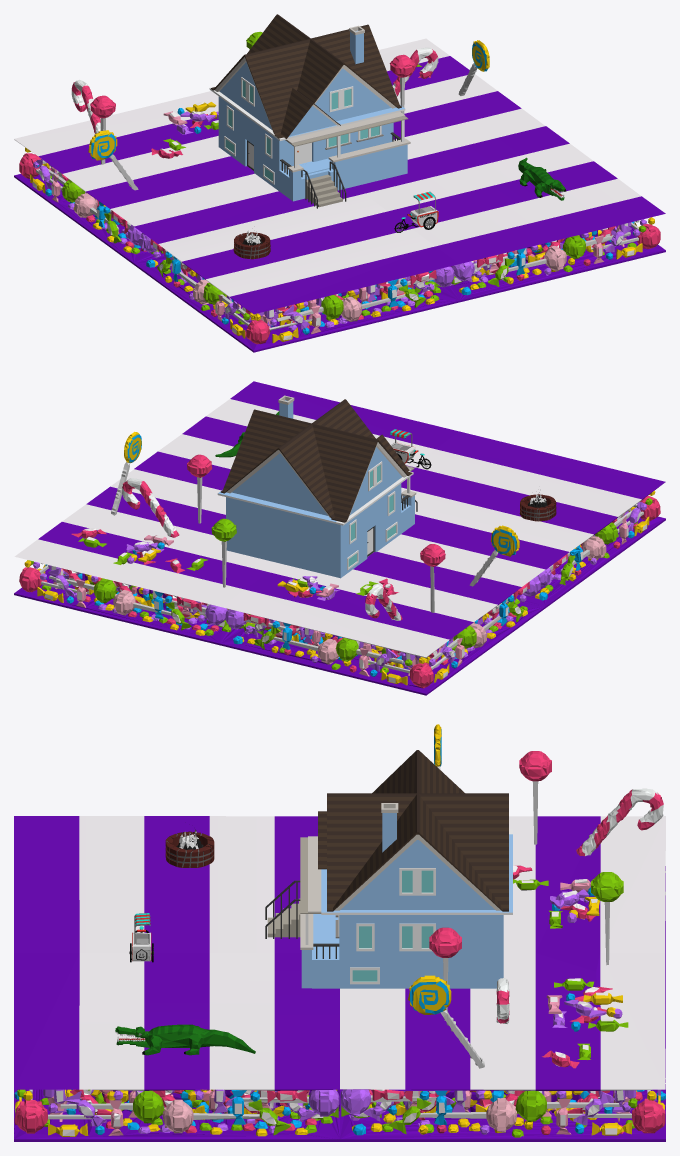
3 renders of one model, top to bottom at view 1: azimuth 30°, elevation 25°; view 2: azimuth 150°, elevation 25°; view 3: azimuth 270°, elevation 25°, orthographic. The views are drawn at different scales.
Visible parts, largest first — view 1: TERRAIN_CANDY, Cube.1594, ANIMAL_COCODRILO, OBJRANDOM_CAMPFIRE, VEHICLES_SNOWBAL_BIKE; view 2: TERRAIN_CANDY, Cube.1594, OBJRANDOM_CAMPFIRE, VEHICLES_SNOWBAL_BIKE; view 3: TERRAIN_CANDY, Cube.1594, ANIMAL_COCODRILO, OBJRANDOM_CAMPFIRE, VEHICLES_SNOWBAL_BIKE.
Boxes of the visible parts, bbox=[...] form: TERRAIN_CANDY: bbox=[14, 31, 665, 352]; Cube.1594: bbox=[209, 14, 410, 208]; ANIMAL_COCODRILO: bbox=[518, 157, 566, 200]; OBJRANDOM_CAMPFIRE: bbox=[233, 230, 270, 259]; VEHICLES_SNOWBAL_BIKE: bbox=[394, 191, 438, 232]; TERRAIN_CANDY: bbox=[14, 381, 665, 695]; Cube.1594: bbox=[217, 395, 417, 578]; OBJRANDOM_CAMPFIRE: bbox=[519, 492, 556, 521]; VEHICLES_SNOWBAL_BIKE: bbox=[390, 429, 431, 469]; TERRAIN_CANDY: bbox=[14, 724, 665, 1141]; Cube.1594: bbox=[265, 750, 512, 988]; ANIMAL_COCODRILO: bbox=[115, 1024, 255, 1055]; OBJRANDOM_CAMPFIRE: bbox=[165, 829, 214, 867]; VEHICLES_SNOWBAL_BIKE: bbox=[129, 913, 153, 962].
Bounding box in the file's own units: 4059 × 1736 × 4000.
30 materials, 2 textured.
